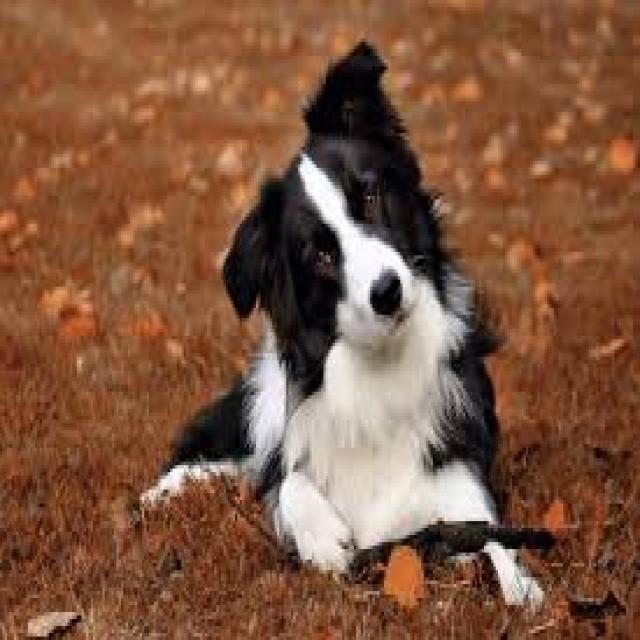BORDER_COLLIE: (139, 41, 557, 618)
